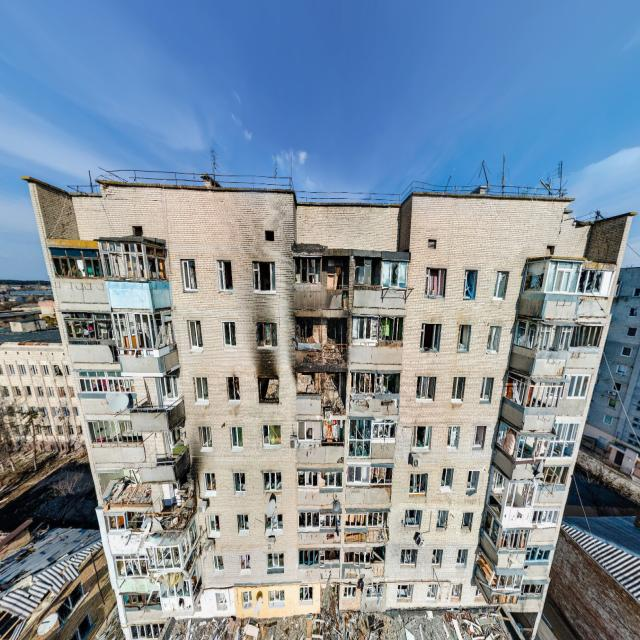broken_window: (523, 260, 605, 295), (504, 370, 564, 409), (514, 318, 573, 352), (348, 419, 398, 458), (354, 259, 408, 289), (352, 316, 403, 342), (350, 372, 400, 395), (347, 466, 394, 484), (569, 326, 604, 350), (299, 549, 340, 567), (253, 262, 276, 293), (538, 465, 570, 485), (424, 267, 445, 297), (419, 323, 440, 352), (416, 376, 436, 402), (182, 260, 198, 291), (531, 510, 559, 526), (492, 271, 507, 300), (218, 261, 233, 290), (412, 425, 430, 449), (525, 547, 551, 563), (263, 472, 282, 493), (520, 582, 544, 598), (409, 473, 427, 494), (463, 270, 476, 299), (223, 323, 236, 348), (457, 325, 469, 352), (405, 509, 422, 527), (400, 549, 417, 566), (473, 426, 485, 450), (447, 426, 459, 449), (267, 554, 284, 570), (440, 469, 453, 489), (266, 515, 282, 531), (397, 584, 413, 599), (467, 472, 478, 491), (437, 511, 448, 530), (300, 585, 313, 601), (212, 555, 224, 572), (461, 513, 472, 530), (456, 549, 467, 566), (269, 590, 284, 602), (240, 555, 251, 571), (426, 585, 437, 599), (432, 550, 441, 566), (450, 585, 461, 598), (243, 591, 252, 604), (217, 593, 226, 605)
building: (21, 173, 638, 640)
damage: (474, 419, 553, 605), (113, 513, 208, 640), (97, 440, 203, 546), (293, 242, 352, 417), (320, 509, 390, 613), (255, 311, 279, 404), (226, 376, 240, 401)
other: (6, 0, 640, 221), (535, 190, 640, 640)
